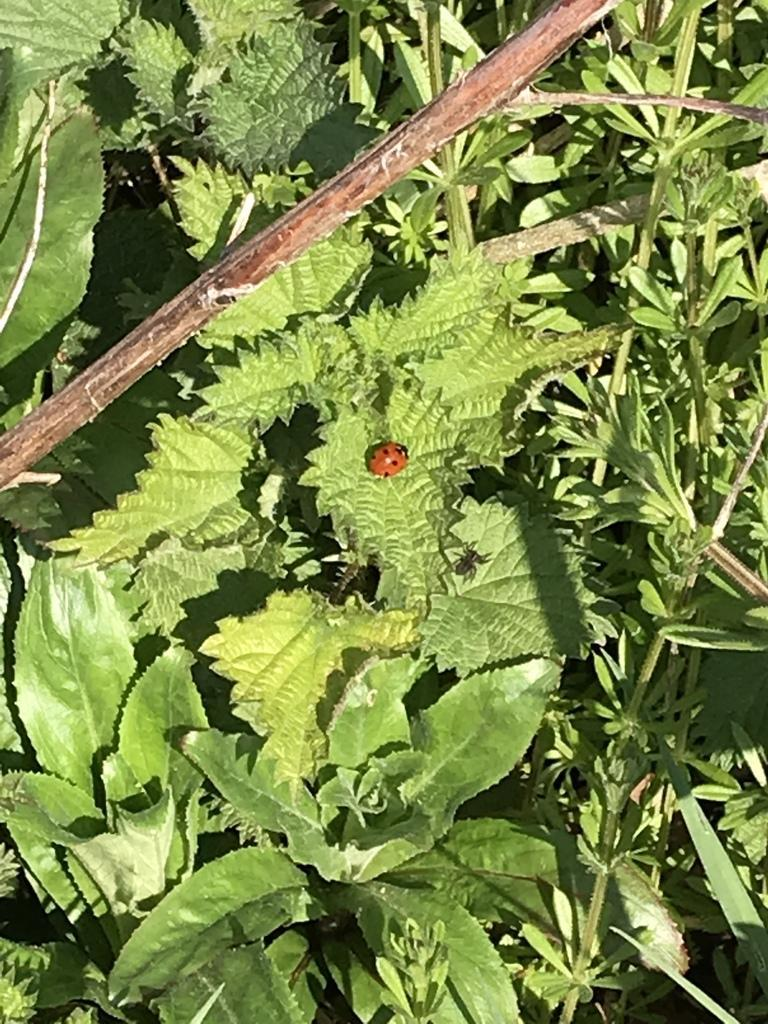ladybug: (367, 442, 411, 478)
